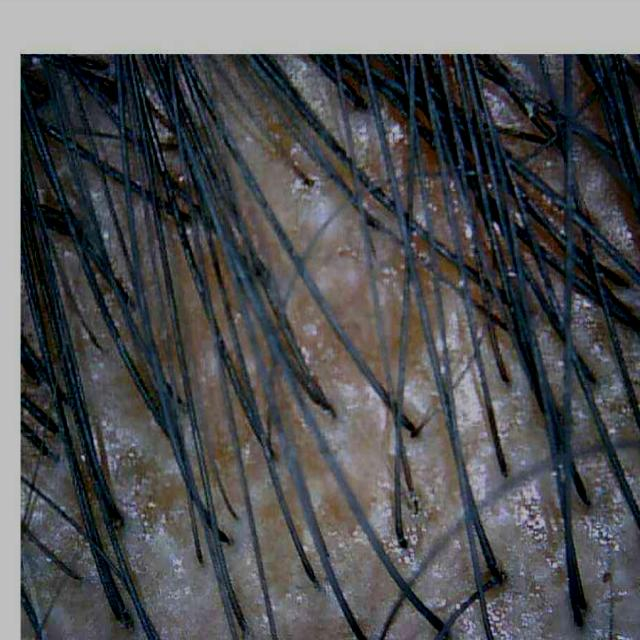ds: (136, 525, 232, 640), (271, 56, 346, 155), (491, 357, 545, 472), (332, 376, 392, 457), (349, 106, 388, 190), (454, 374, 482, 438), (406, 368, 438, 415), (466, 457, 489, 502)
o: (99, 425, 179, 534), (574, 451, 638, 552), (574, 147, 634, 251), (379, 478, 422, 566), (492, 482, 549, 547), (486, 586, 552, 640), (484, 89, 519, 130), (451, 603, 486, 640), (381, 105, 408, 152)
